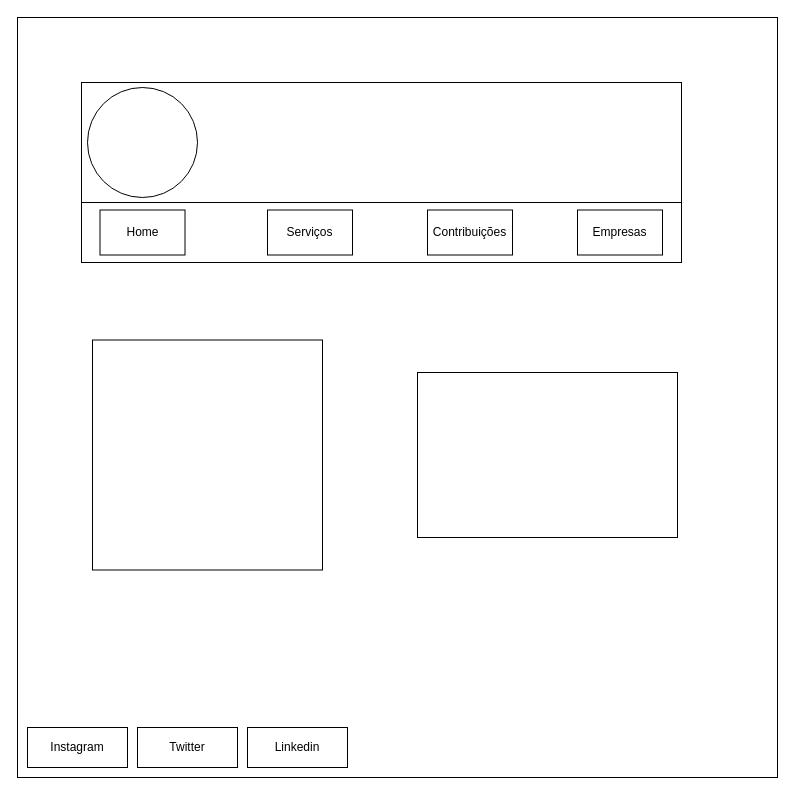
Image size: 795x795. Some labels were removed from this diagram. The box of each missing label's shape, as (x1, y1, x2, y2) in pixels:
Foto: (86, 86, 198, 198)
Imagem: (92, 339, 322, 570)
Um pouco sobre mim: (416, 372, 678, 538)
